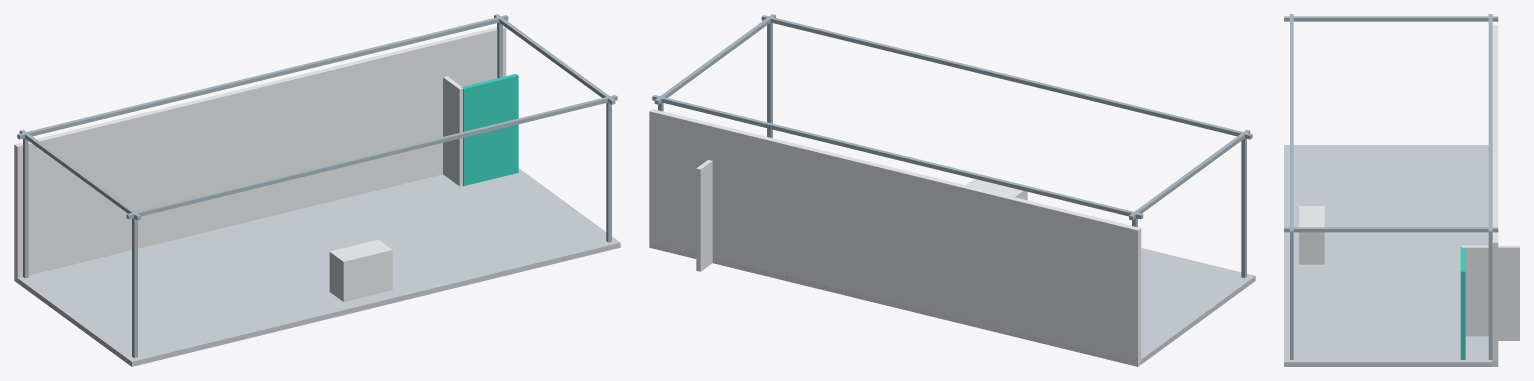
3 views of the same model, side by side, from view 1: azimuth 30°, elevation 25°; view 2: azimuth 150°, elevation 25°; view 3: azimuth 270°, elevation 25° (orthographic). The views are drawn at different scales.
Parts seen in each view (by area): view 1: Exhibition Booth Concept; view 2: Exhibition Booth Concept; view 3: Exhibition Booth Concept.
Boxes of the visible parts, box(x1,y1,x2,y2) form: Exhibition Booth Concept: box(14, 14, 620, 366); Exhibition Booth Concept: box(649, 14, 1255, 366); Exhibition Booth Concept: box(1284, 14, 1519, 366).
Size of the model in its own units: 12 by 3.49 by 5.51.
